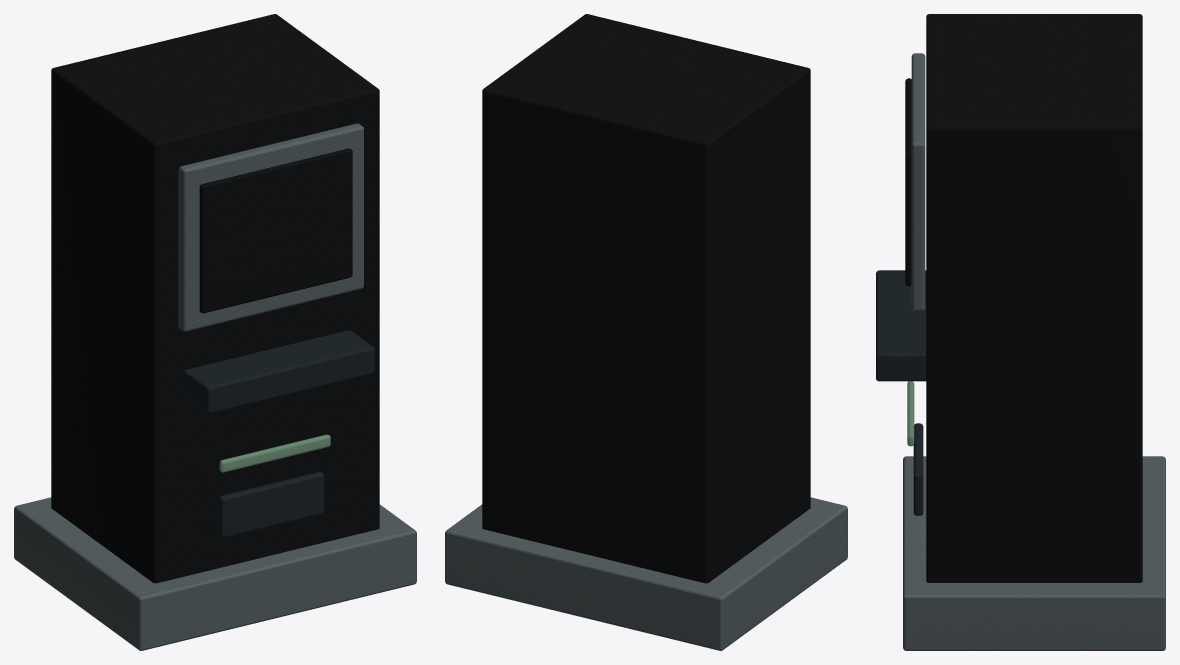
File: ArchiveTerminal.glb
The picture shows the model from 3 angles, left to right: view 1: azimuth 30°, elevation 25°; view 2: azimuth 150°, elevation 25°; view 3: azimuth 270°, elevation 25°; orthographic projection. The views are drawn at different scales.
Parts seen in each view (by area): view 1: ArchiveTerminal_Mesh; view 2: ArchiveTerminal_Mesh; view 3: ArchiveTerminal_Mesh.
Boxes of the visible parts, x1,y1,x2,y2 form: ArchiveTerminal_Mesh: [14, 14, 416, 650]; ArchiveTerminal_Mesh: [445, 14, 847, 650]; ArchiveTerminal_Mesh: [876, 14, 1165, 650].
Bounding box in the file's own units: 0.86 × 1.46 × 0.75.
4 materials, 4 textured.
